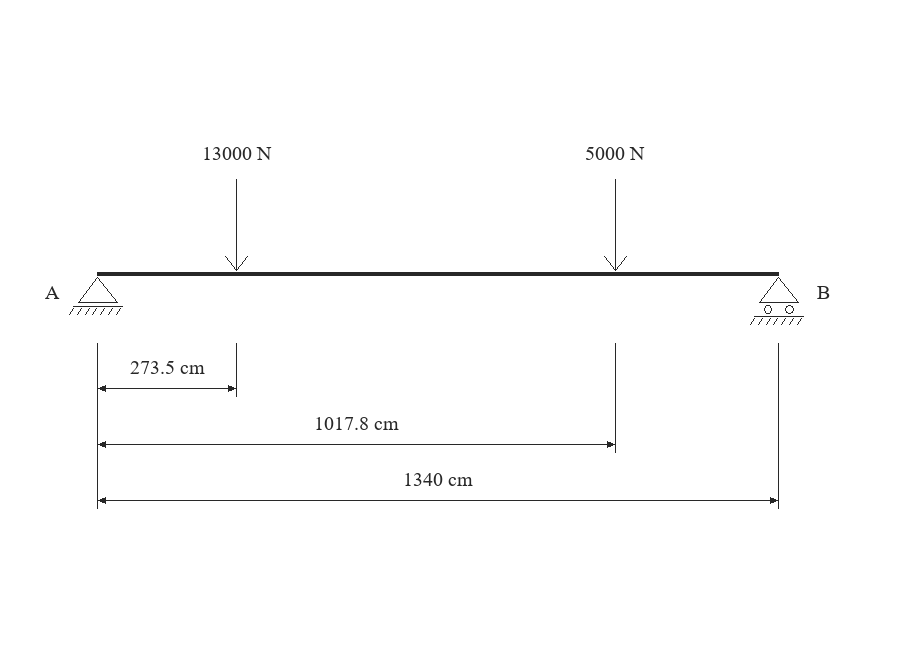pin_support: (69, 277, 123, 315)
point_load: (225, 179, 248, 271), (604, 179, 627, 271)
roller_support: (750, 277, 804, 325)
